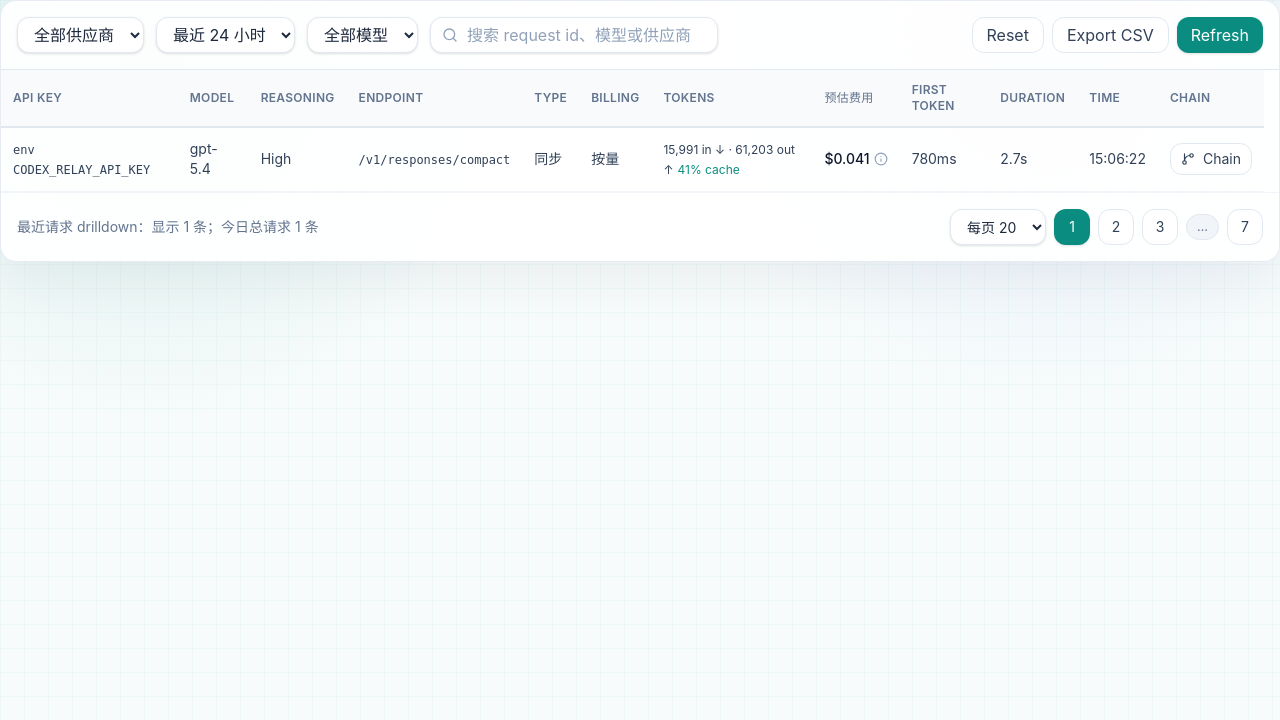
Test case: usage table › uses refreshed row data for the chain action and recovers after a failed request
Click the button "Chain".
click(1211, 159)  # box [1170, 143, 1252, 175]
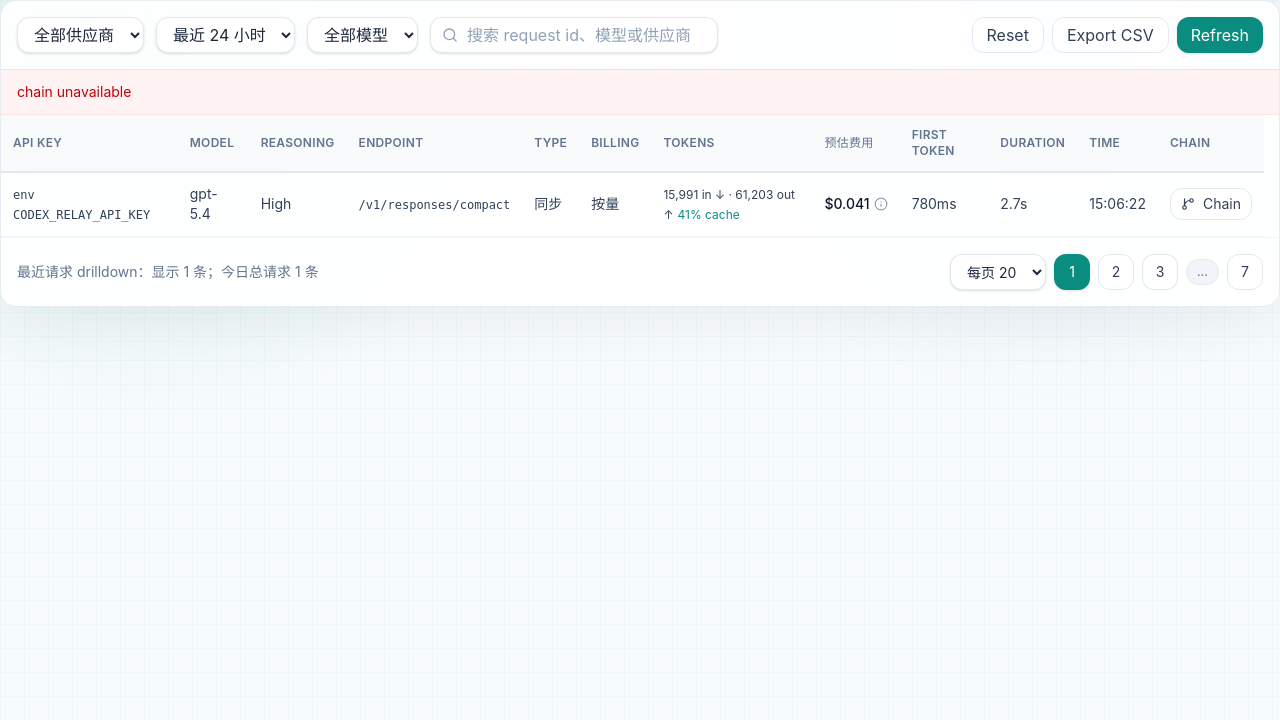
Expected: the button "Chain" is enabled, [1170, 188, 1252, 220]
Now the text "chain unavailable" is shown, box [1, 70, 1279, 115]
